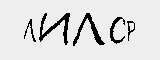И: (37, 10, 70, 46)
Л: (73, 10, 104, 46), (21, 17, 38, 46)
Р: (124, 19, 138, 41)
С: (108, 13, 127, 44)
